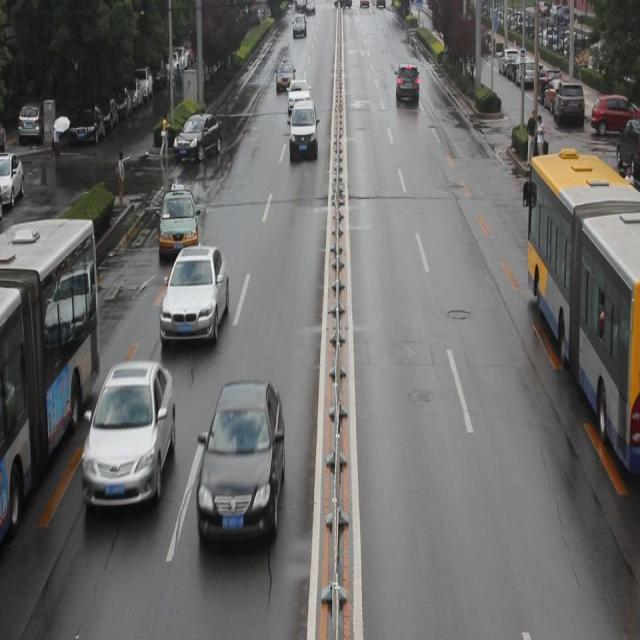car: (198, 382, 285, 545), (83, 363, 173, 514), (160, 247, 229, 346), (159, 184, 198, 256), (173, 113, 223, 160)
truck: (290, 101, 318, 161)
van: (520, 152, 640, 478), (0, 218, 100, 536)
